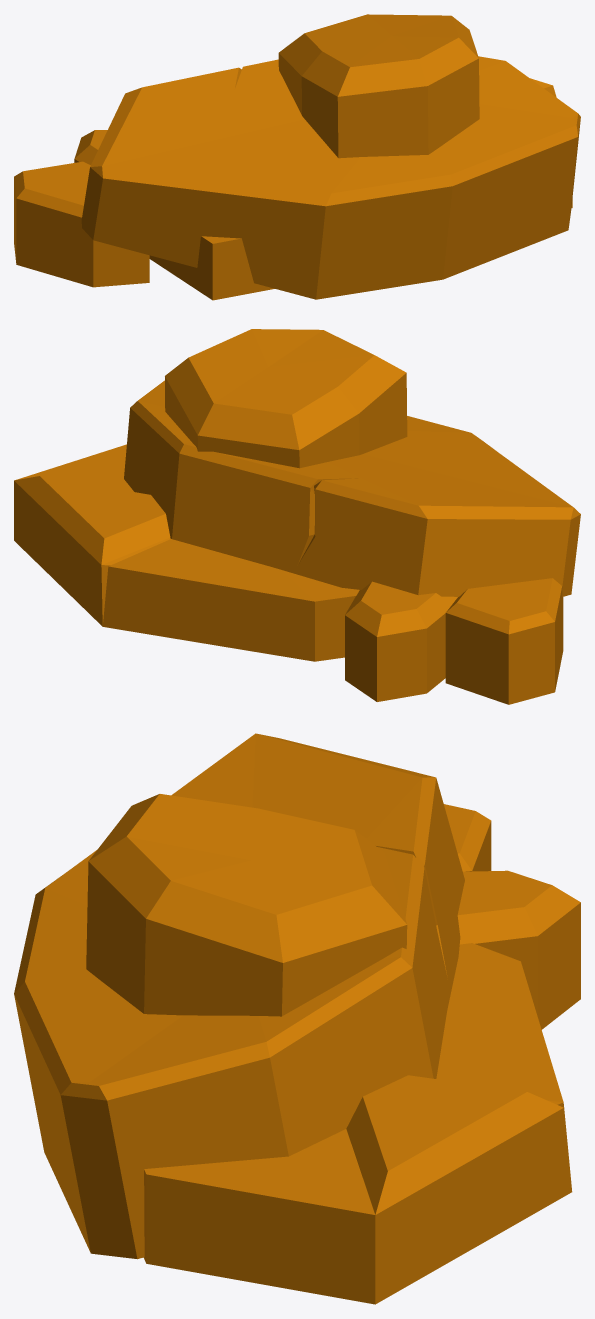
File: brigesRock_Type1_01_mesh_001.fbx
3 renders of one model, top to bottom at view 1: azimuth 30°, elevation 25°; view 2: azimuth 150°, elevation 25°; view 3: azimuth 270°, elevation 25°, orthographic. The views are drawn at different scales.
Visible parts, largest first — view 1: Rock Type1 01 mesh.001; view 2: Rock Type1 01 mesh.001; view 3: Rock Type1 01 mesh.001.
Boxes of the visible parts, x1,y1,x2,y2 form: Rock Type1 01 mesh.001: (14,14,580,300); Rock Type1 01 mesh.001: (14,329,580,704); Rock Type1 01 mesh.001: (14,733,580,1304).
Size of the model in its own units: 266 by 97.63 by 158.
